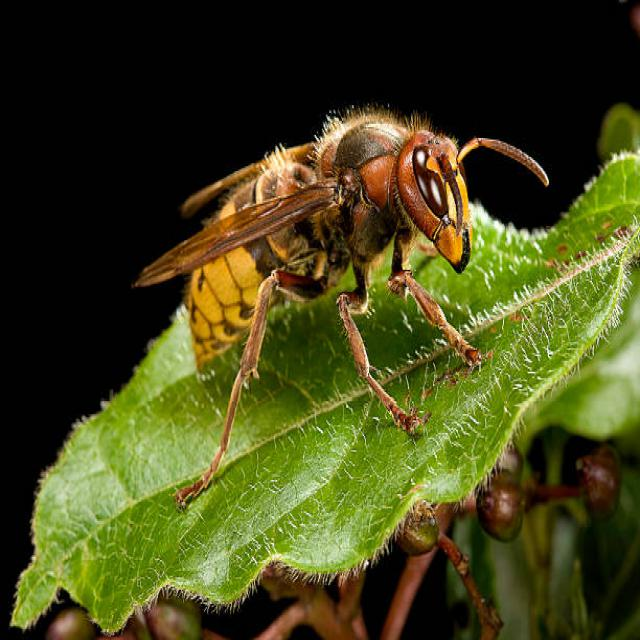Vespa Crabro: (121, 70, 556, 499)
